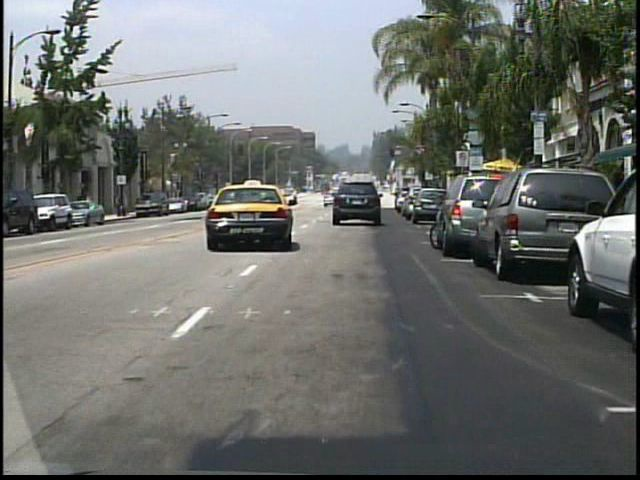person: (77, 188, 89, 219), (85, 191, 96, 219), (293, 189, 300, 202)
